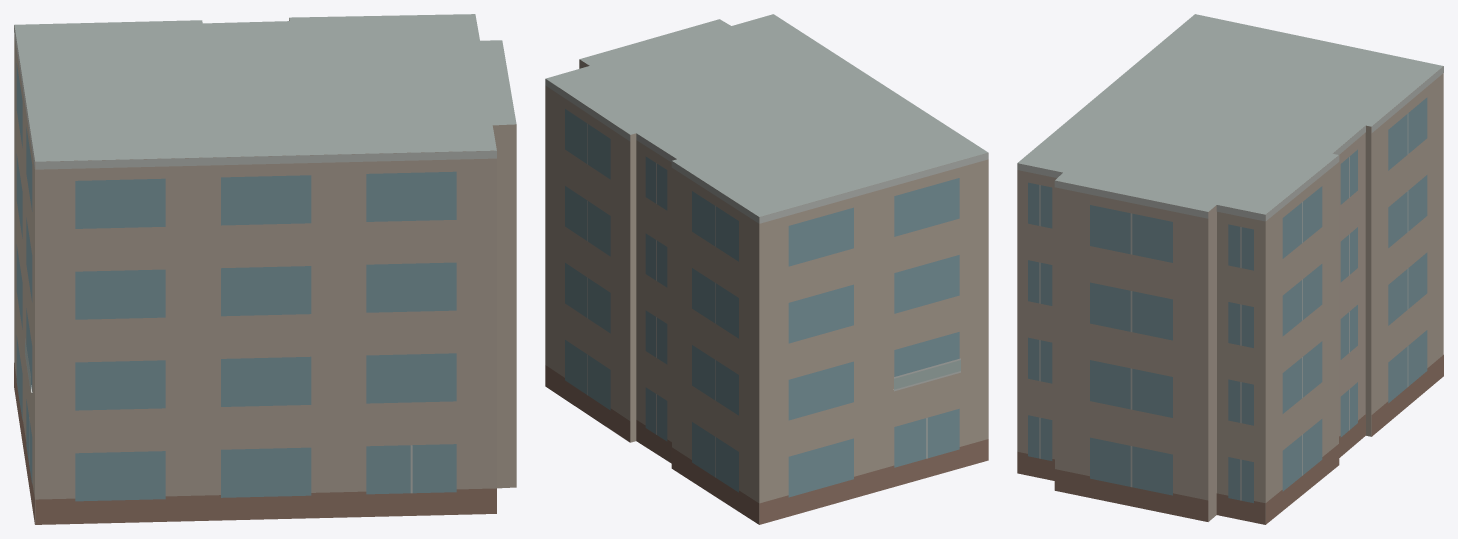
The model's file is survey-upis-32693716.glb.
3 views of the same model, side by side, from view 1: azimuth 30°, elevation 25°; view 2: azimuth 150°, elevation 25°; view 3: azimuth 270°, elevation 25° (orthographic). The views are drawn at different scales.
Parts seen in each view (by area): view 1: survey-upis-32693716.tmp; view 2: survey-upis-32693716.tmp; view 3: survey-upis-32693716.tmp.
Boxes of the visible parts, <box> form: survey-upis-32693716.tmp: <box>14,14,516,524</box>; survey-upis-32693716.tmp: <box>545,14,988,524</box>; survey-upis-32693716.tmp: <box>1017,14,1443,524</box>.
Bounding box in the file's own units: 15.41 × 11.1 × 13.84.
